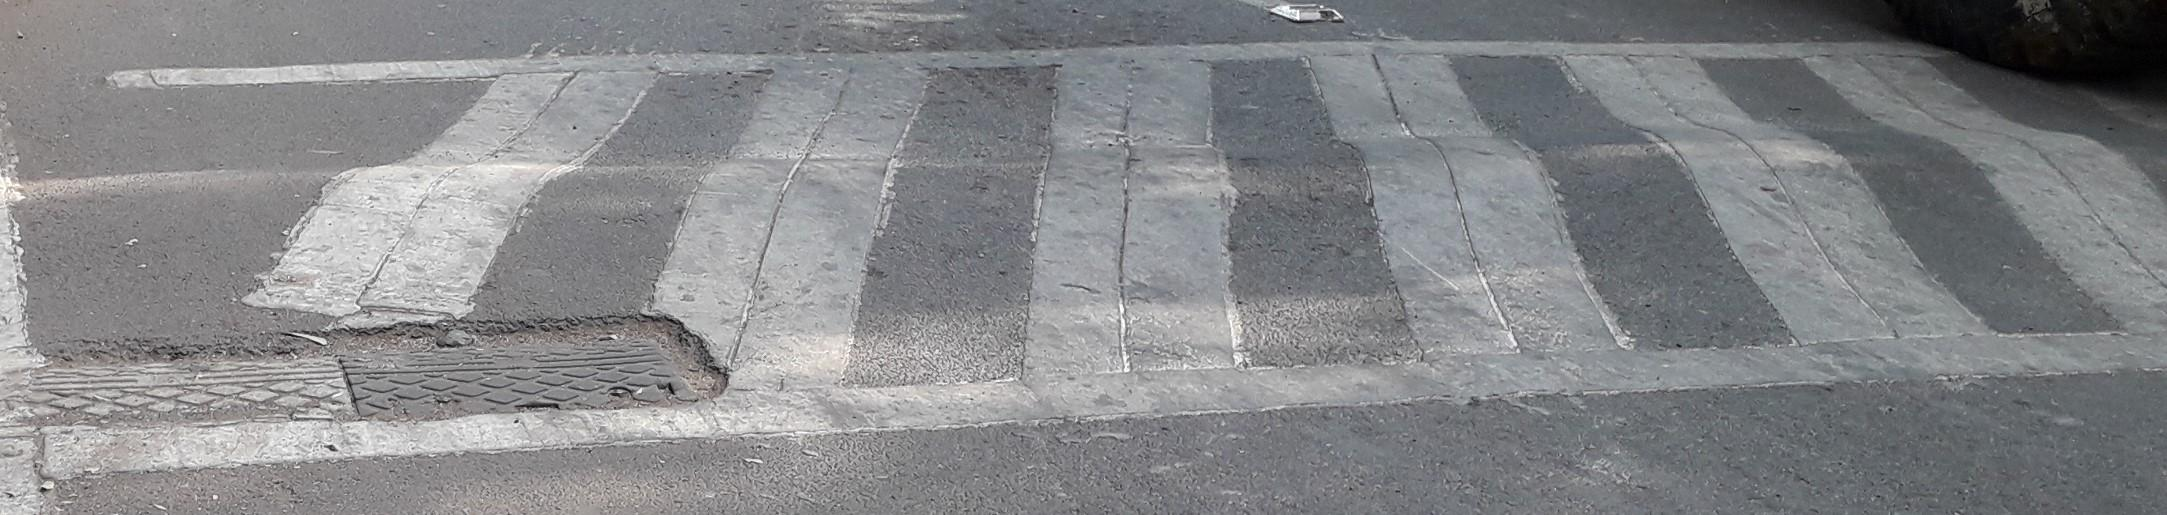speed-bump: (23, 38, 2160, 432)
